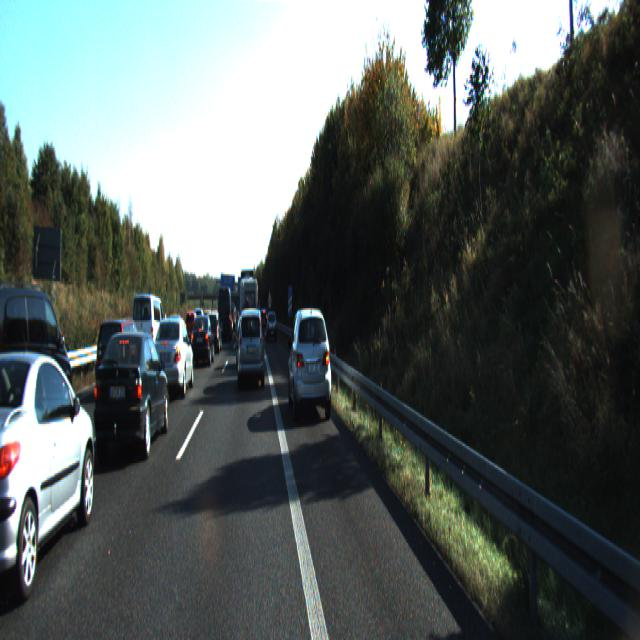Car: (0, 342, 105, 620), (0, 279, 77, 472), (91, 326, 170, 467), (287, 305, 332, 422), (96, 315, 148, 398), (149, 314, 195, 401), (130, 290, 168, 370), (238, 308, 266, 392), (191, 312, 215, 367), (242, 276, 260, 344), (218, 287, 233, 343), (205, 312, 223, 355), (267, 311, 279, 341)
